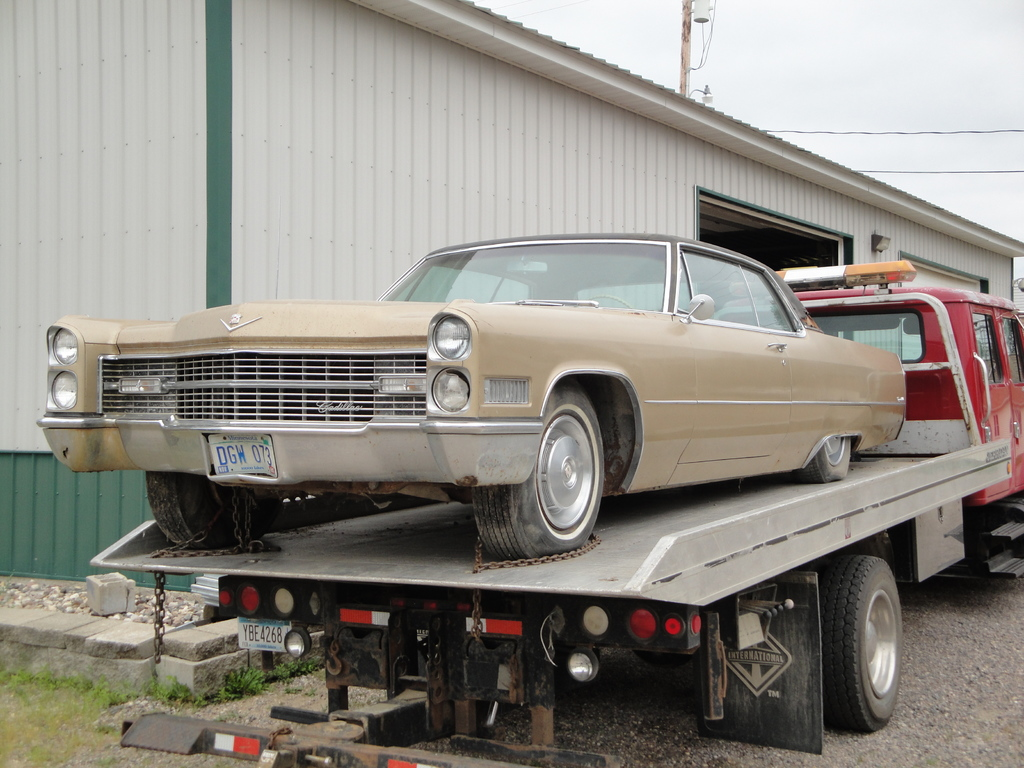Car: (62, 229, 951, 561)
